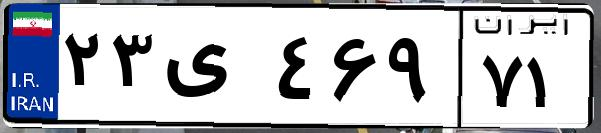1: (525, 38, 570, 115)
2: (57, 26, 110, 100)
3: (110, 28, 158, 98)
4: (270, 28, 330, 110)
6: (330, 28, 385, 110)
7: (475, 38, 525, 113)
9: (385, 28, 445, 110)
ی: (158, 20, 270, 120)
